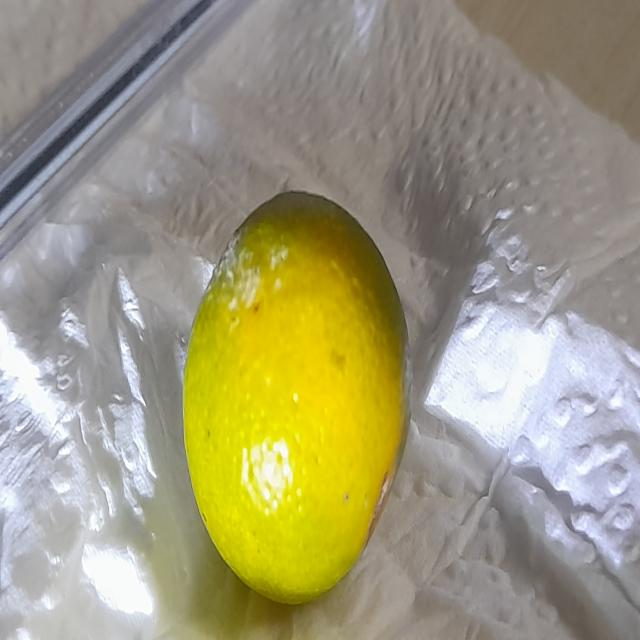greening: (182, 188, 414, 610)
